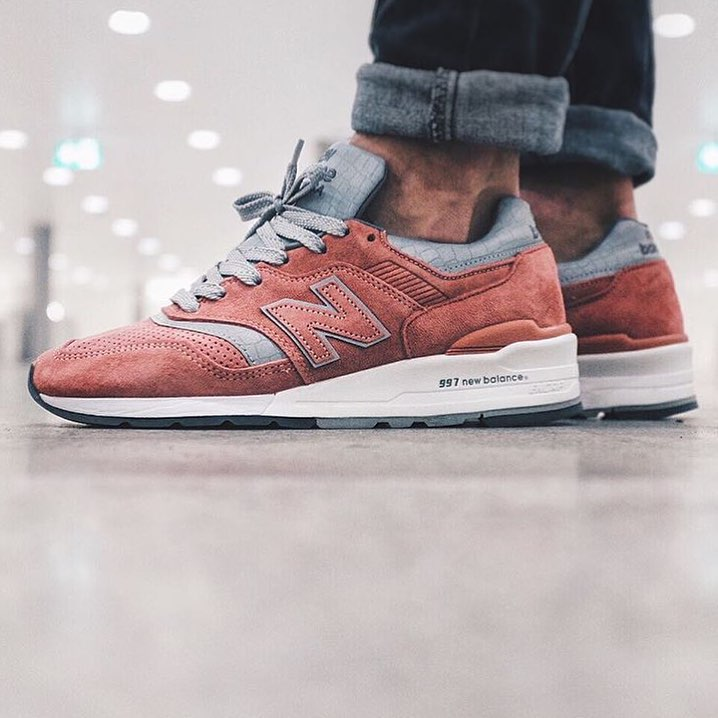sneaker: (1, 87, 614, 473), (486, 116, 714, 440)
